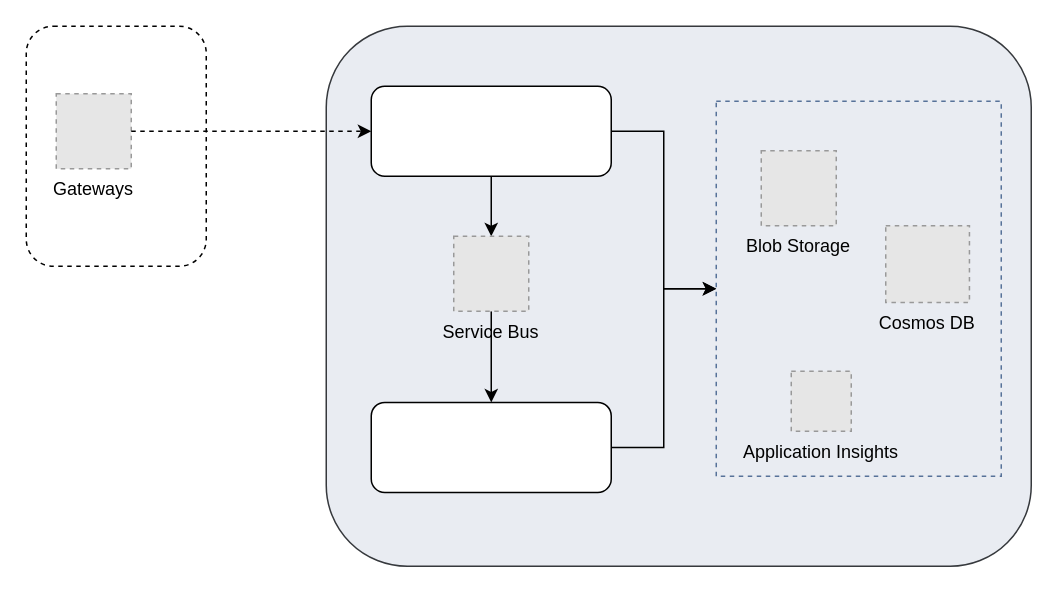
This 1058x593 diagram has some shape labels left out. Grey dashed boxes stand in for pictures. The shapes that lost their labels are listed below. From the top down, each one's centre as x and y in pixels, then its label:
At point (490, 130): "Imager API".
At point (490, 446): "Imager Background Service".
